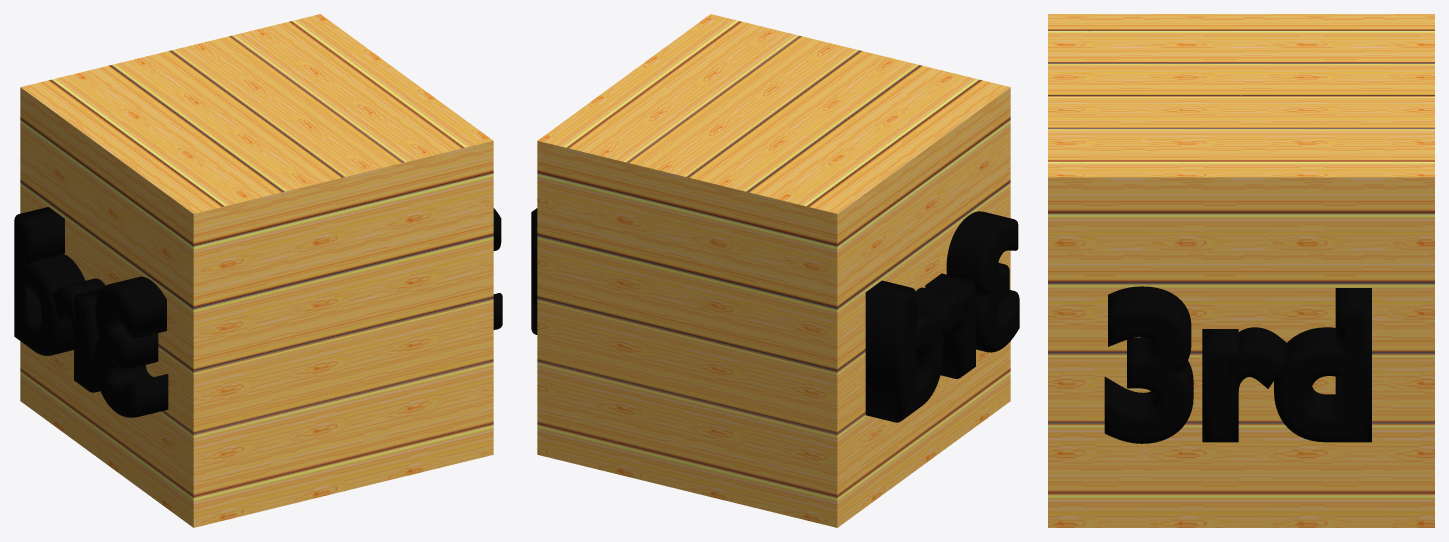
The model's file is stage_3.obj.
The picture shows the model from 3 angles, left to right: view 1: azimuth 30°, elevation 25°; view 2: azimuth 150°, elevation 25°; view 3: azimuth 270°, elevation 25°; orthographic projection. The views are drawn at different scales.
Visible parts, largest first — view 1: Cube, テキスト; view 2: Cube, テキスト; view 3: Cube, テキスト.
Part boxes in pixels (bbox=[...]): Cube: bbox=[20, 14, 493, 527]; テキスト: bbox=[14, 207, 502, 417]; Cube: bbox=[537, 14, 1010, 527]; テキスト: bbox=[531, 208, 1019, 422]; Cube: bbox=[1048, 14, 1434, 527]; テキスト: bbox=[1104, 286, 1371, 443].
Bounding box in the file's own units: 2.5 × 2 × 2.
